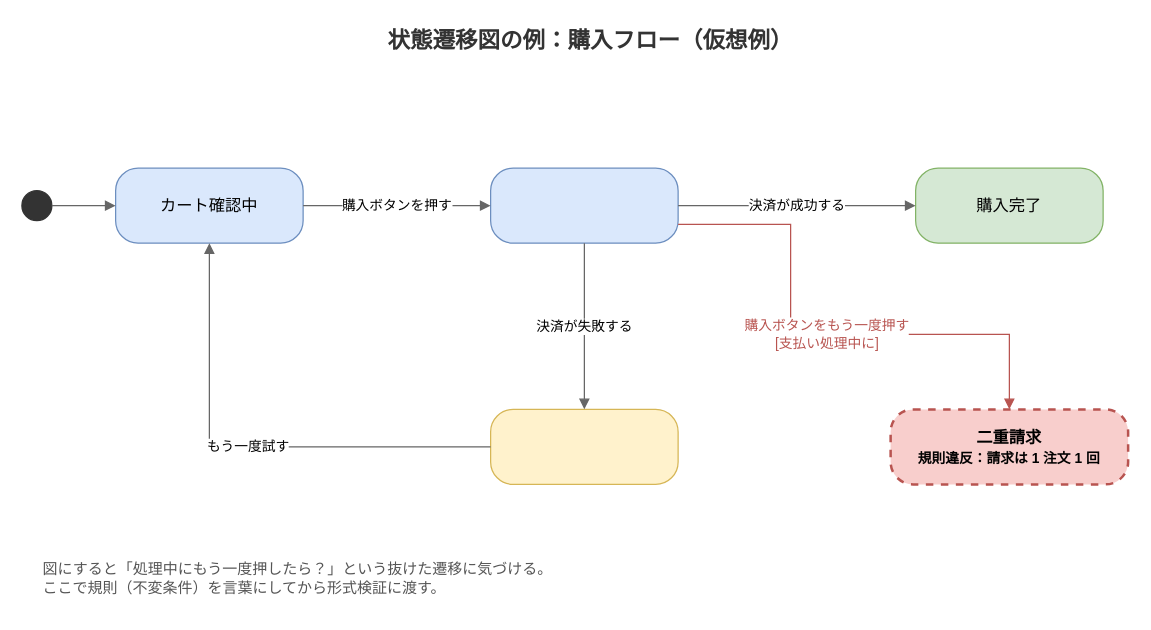
Image size: 1151x630. Some labels were removed from this diagram. The shapes that lost their labels are listed below. From the top down, each one's centre as x and y in pixels, then its label:
At pixel 583 205: "支払い処理中".
At pixel 583 446: "支払い失敗".
